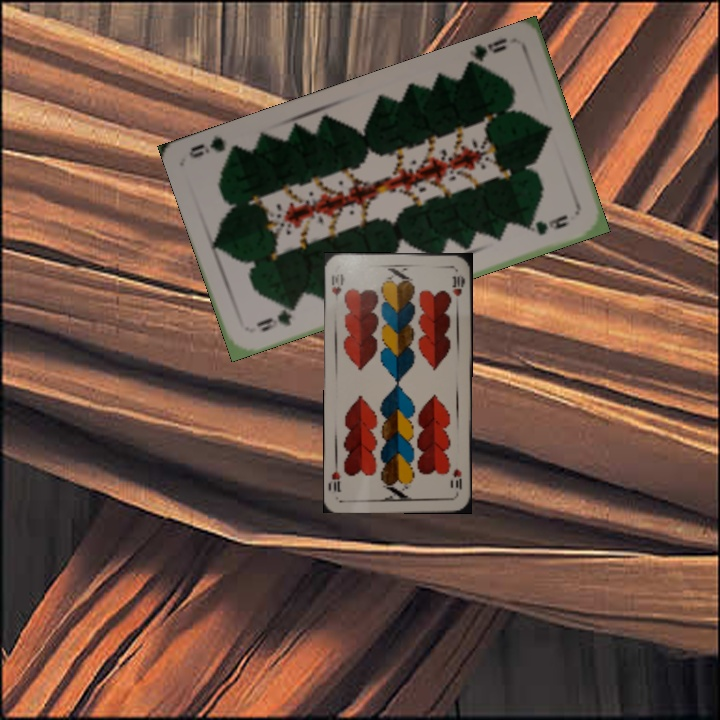G9: (462, 34, 509, 70), (251, 302, 301, 334)
H10: (328, 270, 347, 304), (448, 465, 464, 497)
